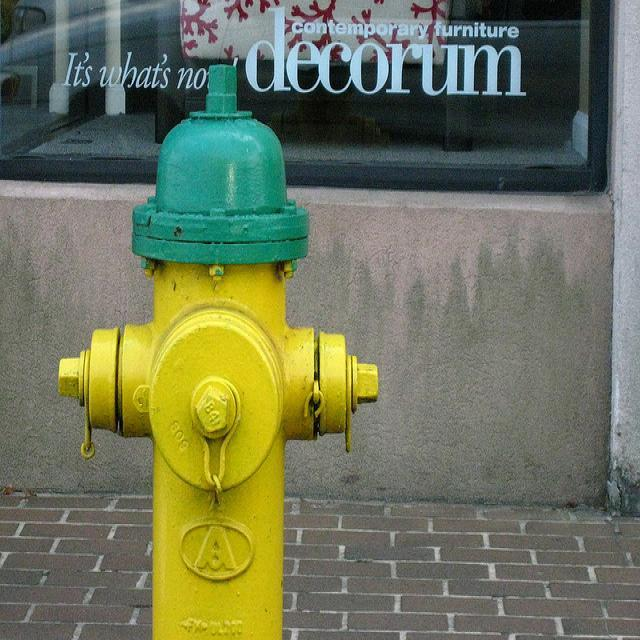fire_hydrant: (52, 65, 377, 628)
